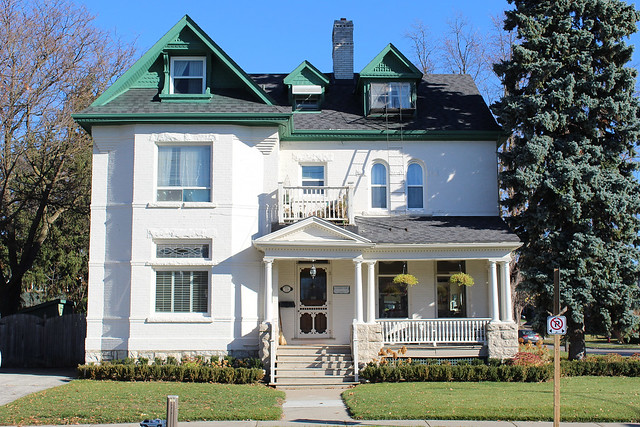low: (250, 214, 526, 386)
medium: (70, 9, 526, 388)
